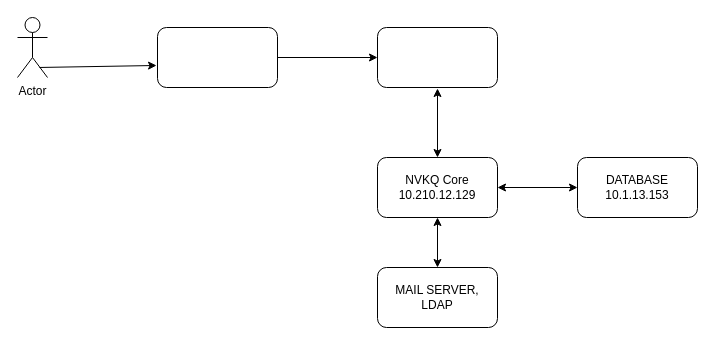
This 715x345 diagram has some shape labels left out. Here are the shapes that lost their labels. From the top down, the centre of each, then its label:
At (217,57): "Citrix".
At (437,57): "NVKQ Web 10.210.12.129".
